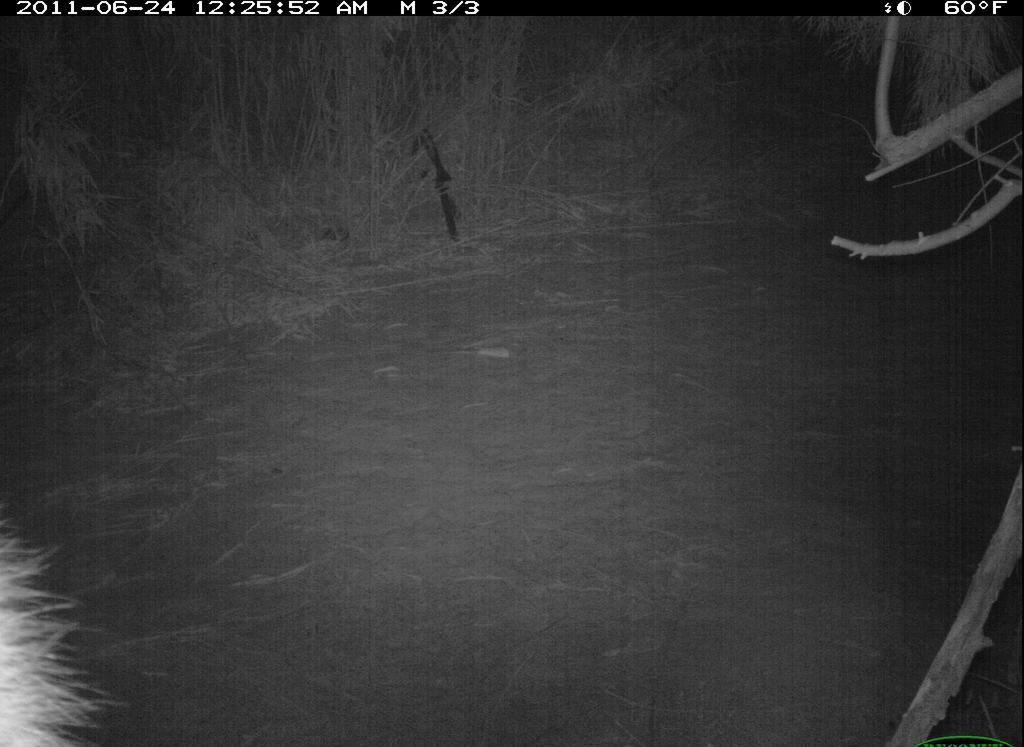raccoon: (1, 464, 127, 745)
